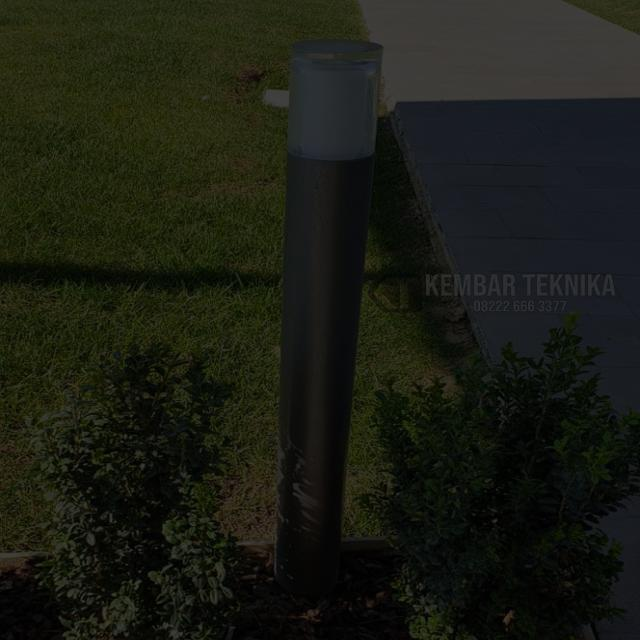Bollard: (260, 29, 396, 598)
